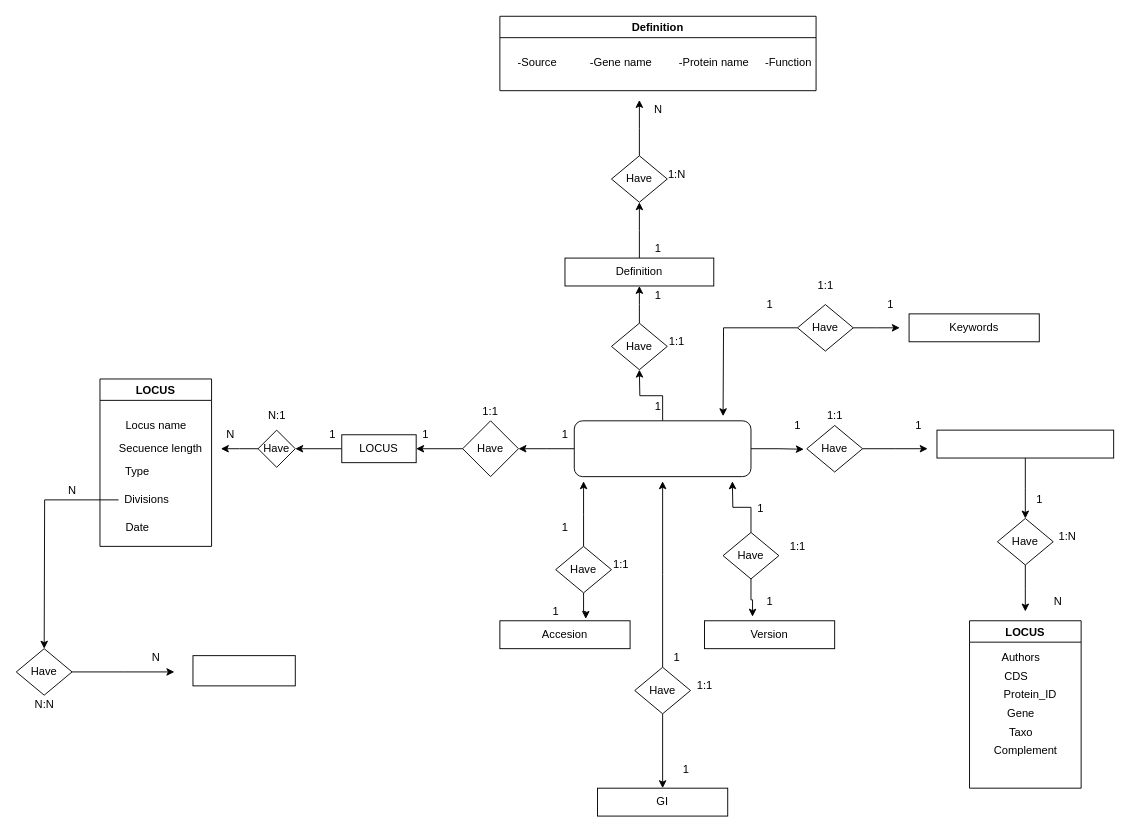
Some shapes in this 1130 by 832 pixel diagram are drawn without their labels. Here are the shapes that lost their labels. From the top down, the centre of each, then its label:
At point 662,448: "Genomes".
At point 1025,443: "Reference".
At point 243,670: "Organism".
